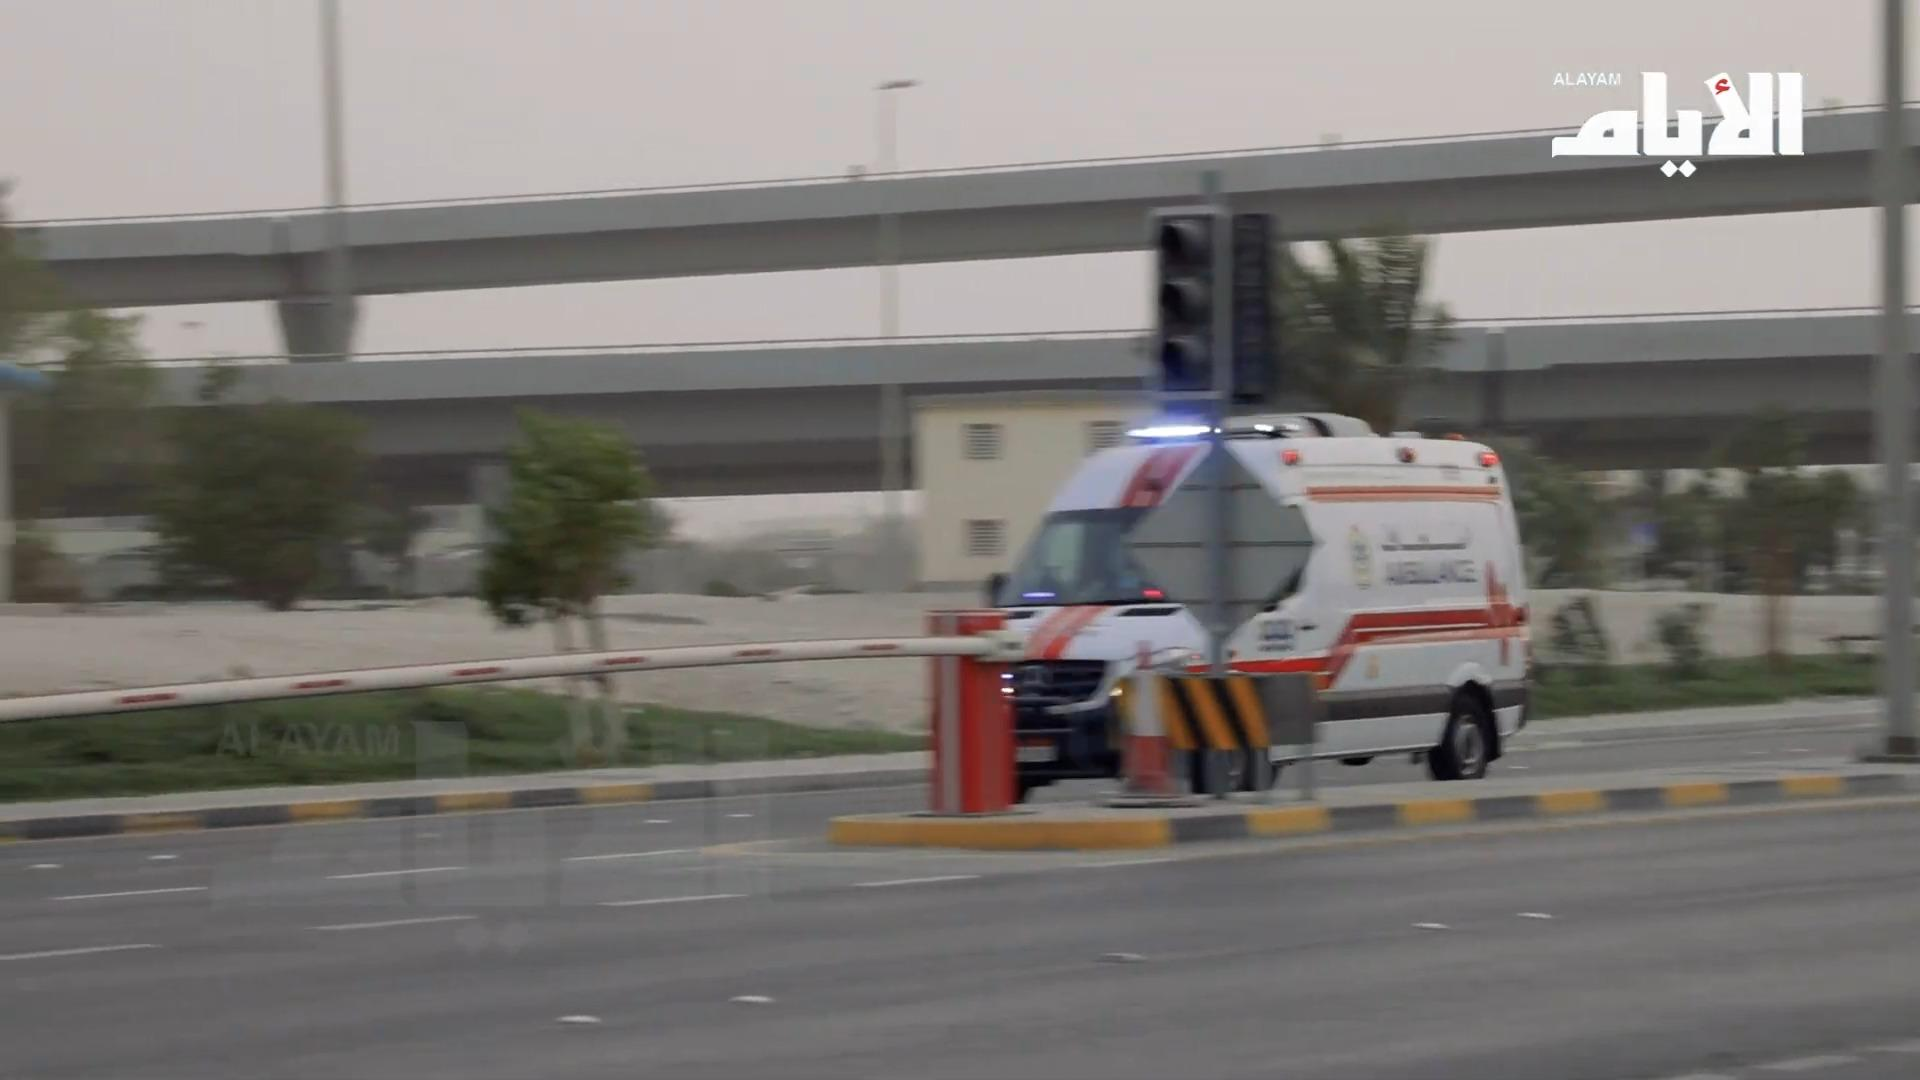ambulance_on: (986, 414, 1530, 799)
